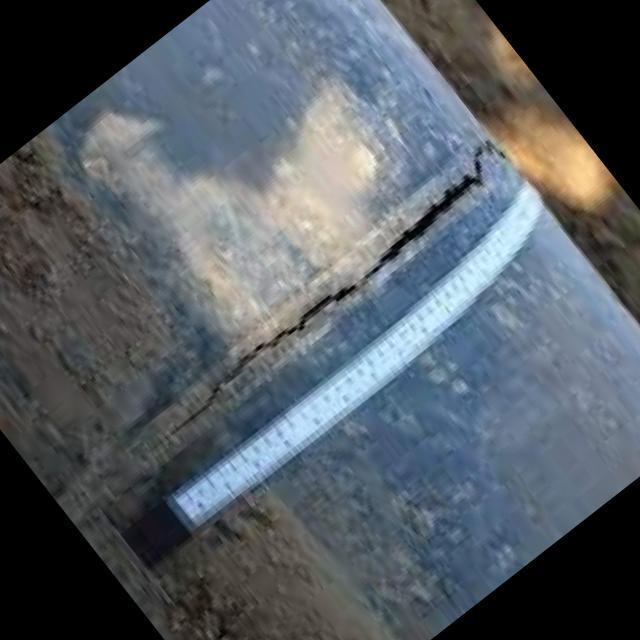defect: (138, 133, 516, 460)
